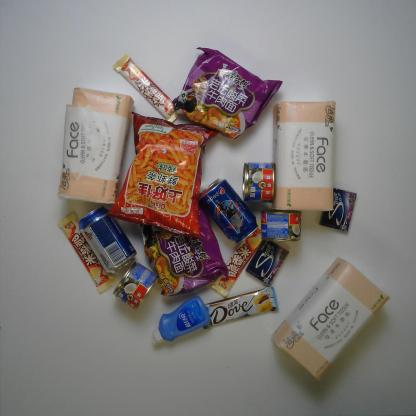Alcohol: (77, 206, 136, 274)
Canned Food: (102, 258, 162, 317), (242, 161, 276, 203), (259, 209, 302, 242)
Chocolate: (112, 55, 184, 123), (58, 212, 118, 293), (210, 218, 268, 298), (196, 286, 279, 328)
Drink: (196, 173, 265, 247)
Gum: (246, 237, 294, 289), (320, 187, 358, 233)
Instant Noodles: (172, 47, 284, 140), (139, 203, 228, 297)
Personal Hygiene: (152, 294, 212, 348)
Puffed Food: (105, 113, 219, 236)
Tissue: (270, 258, 390, 380), (56, 88, 133, 207), (273, 102, 337, 212)
